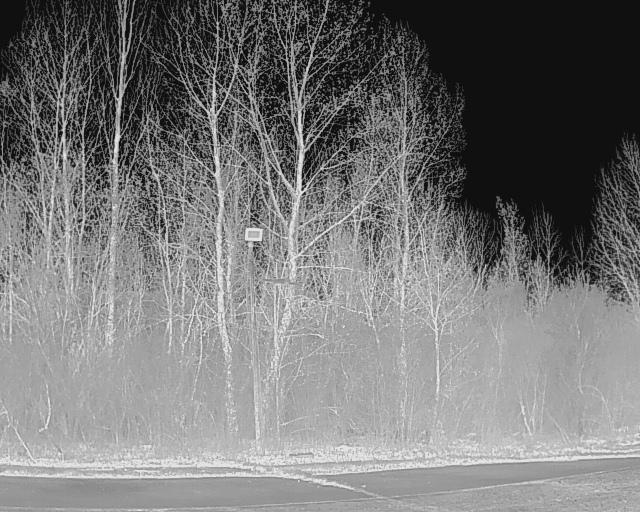drone: (248, 261, 306, 301)
